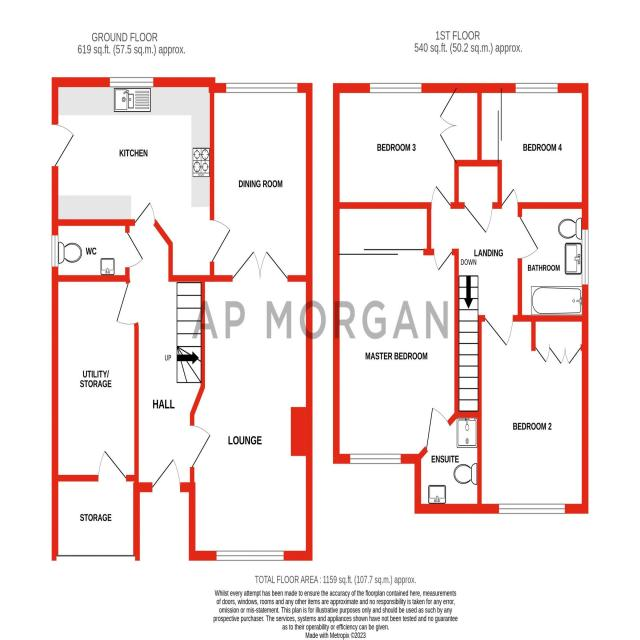DOOR: (150, 454, 181, 493), (425, 406, 451, 452), (115, 281, 139, 326), (51, 123, 75, 168), (517, 215, 540, 260), (97, 448, 127, 482), (210, 218, 231, 264), (484, 315, 514, 347), (190, 424, 211, 469), (125, 231, 144, 269), (134, 200, 156, 226), (431, 184, 451, 209), (433, 248, 453, 272), (501, 187, 518, 209)
DOUBLE DOOR: (231, 249, 289, 282)
ROOM: (188, 249, 313, 561), (51, 76, 232, 283), (332, 201, 460, 465), (477, 314, 589, 514), (210, 81, 314, 282), (333, 82, 482, 209), (476, 82, 589, 209)
WINDOW: (215, 549, 285, 562), (225, 82, 299, 94), (498, 503, 566, 515), (349, 453, 402, 465), (369, 82, 422, 94), (109, 76, 154, 88), (515, 82, 559, 94), (581, 229, 589, 285), (51, 234, 59, 268)
